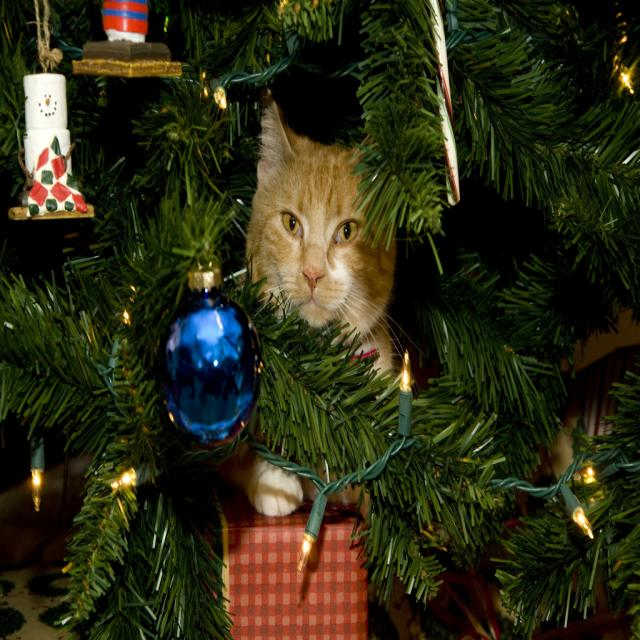Cat: (212, 38, 400, 516)
